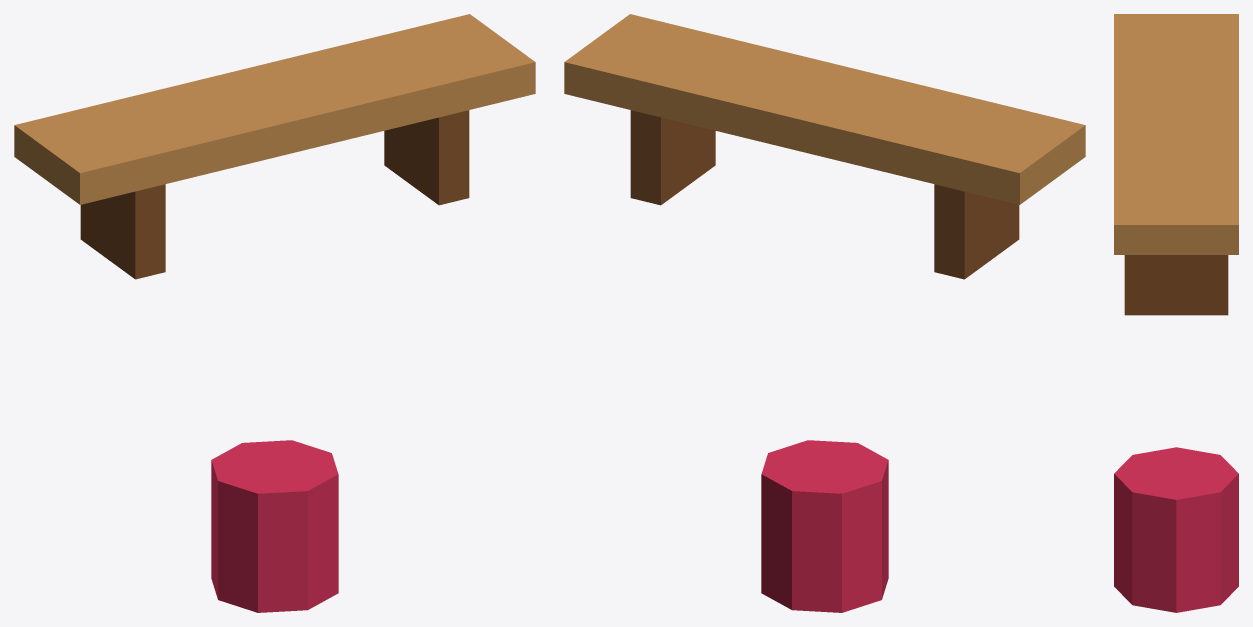
File: wall_shelf.glb
3 views of the same model, side by side, from view 1: azimuth 30°, elevation 25°; view 2: azimuth 150°, elevation 25°; view 3: azimuth 270°, elevation 25° (orthographic). The views are drawn at different scales.
Parts seen in each view (by area): view 1: wall_shelf; view 2: wall_shelf; view 3: wall_shelf.
Boxes of the visible parts, left/top/right/bottom form: wall_shelf: left=14, top=14, right=535, bottom=612; wall_shelf: left=564, top=14, right=1085, bottom=612; wall_shelf: left=1114, top=14, right=1238, bottom=612.
Size of the model in its own units: 1.2 by 1.24 by 0.3.
